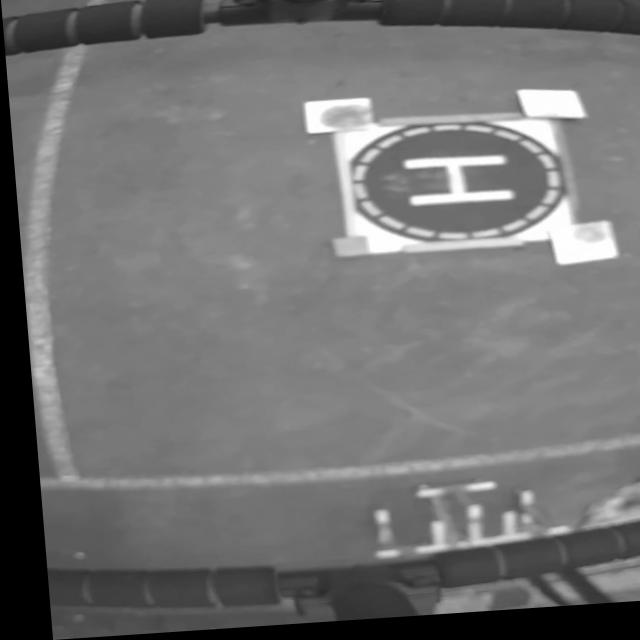Helipad: (397, 161, 511, 211)
